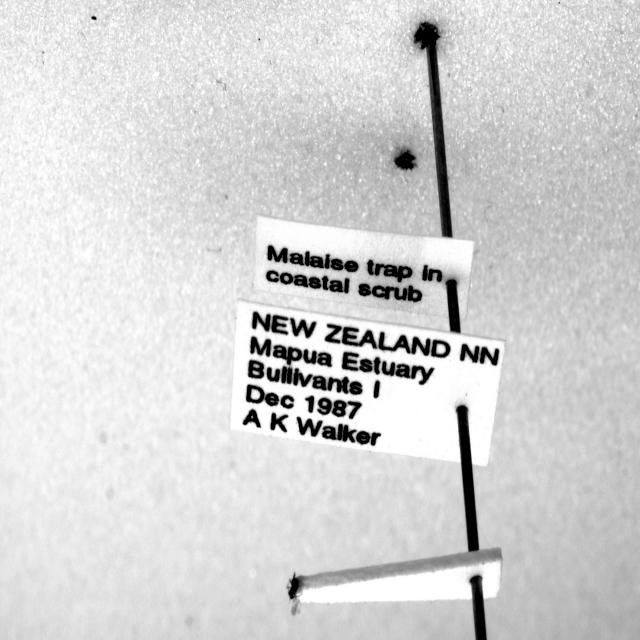typed_label: (231, 300, 505, 465), (254, 216, 474, 319)
